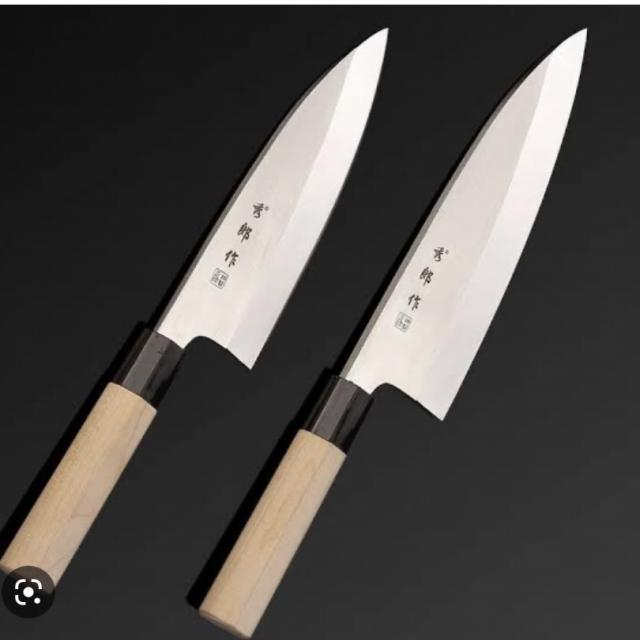Knife: (9, 7, 592, 640)
